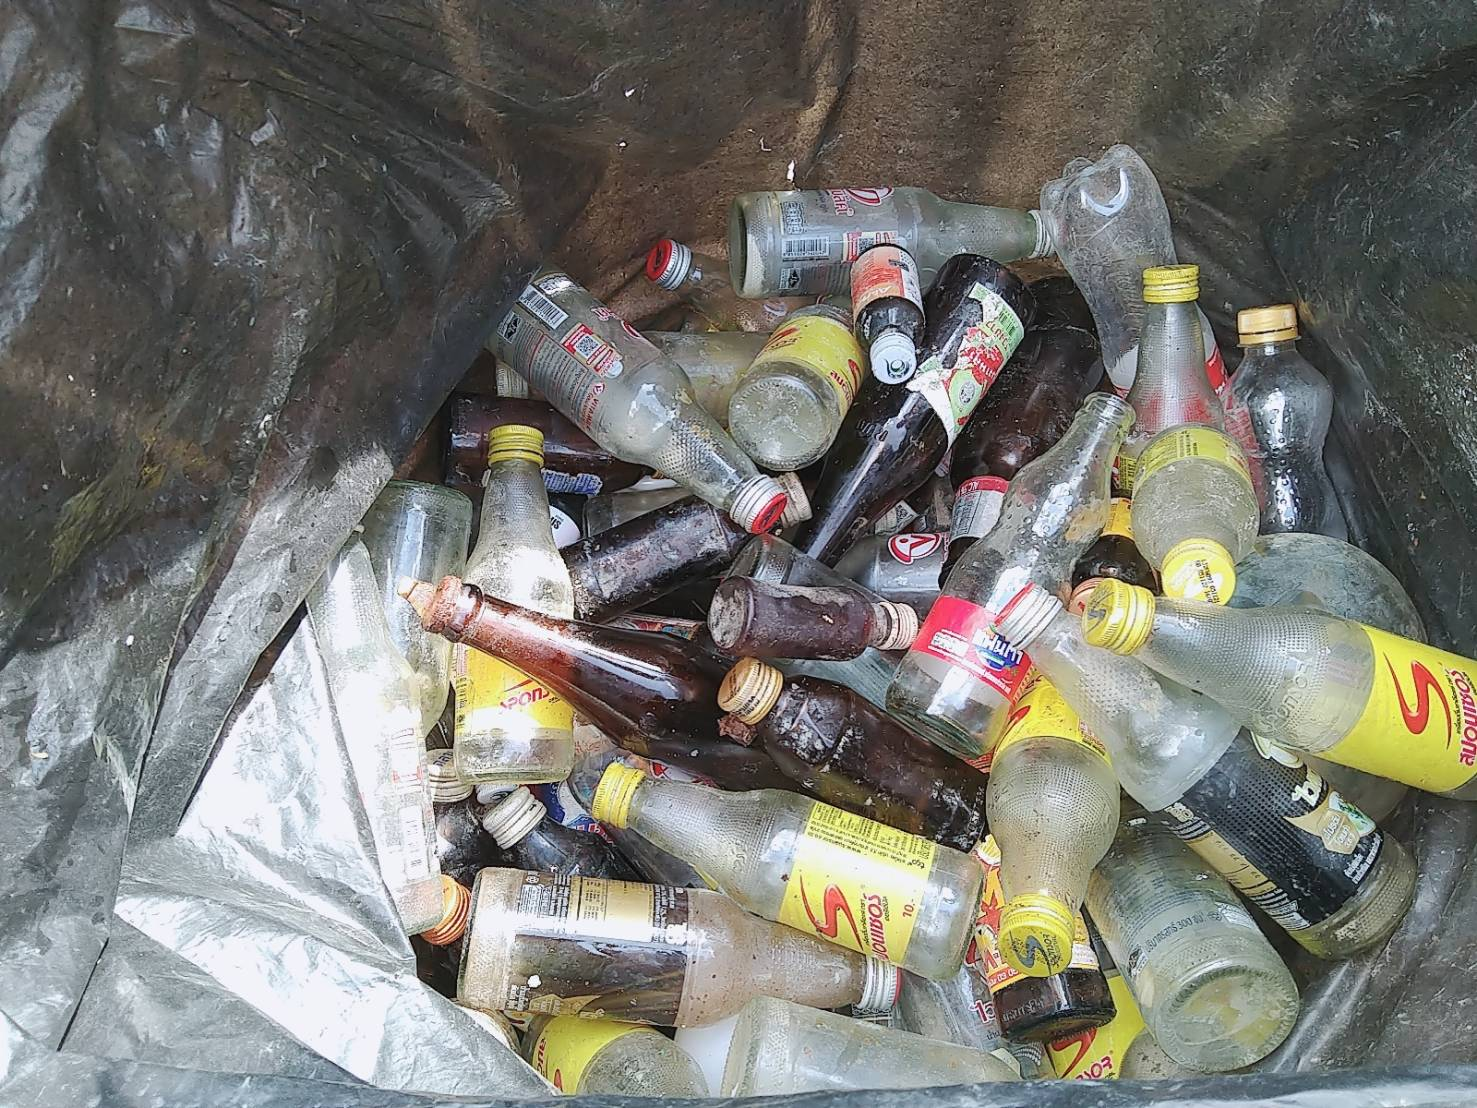glass_bottle: (371, 127, 1472, 1103)
